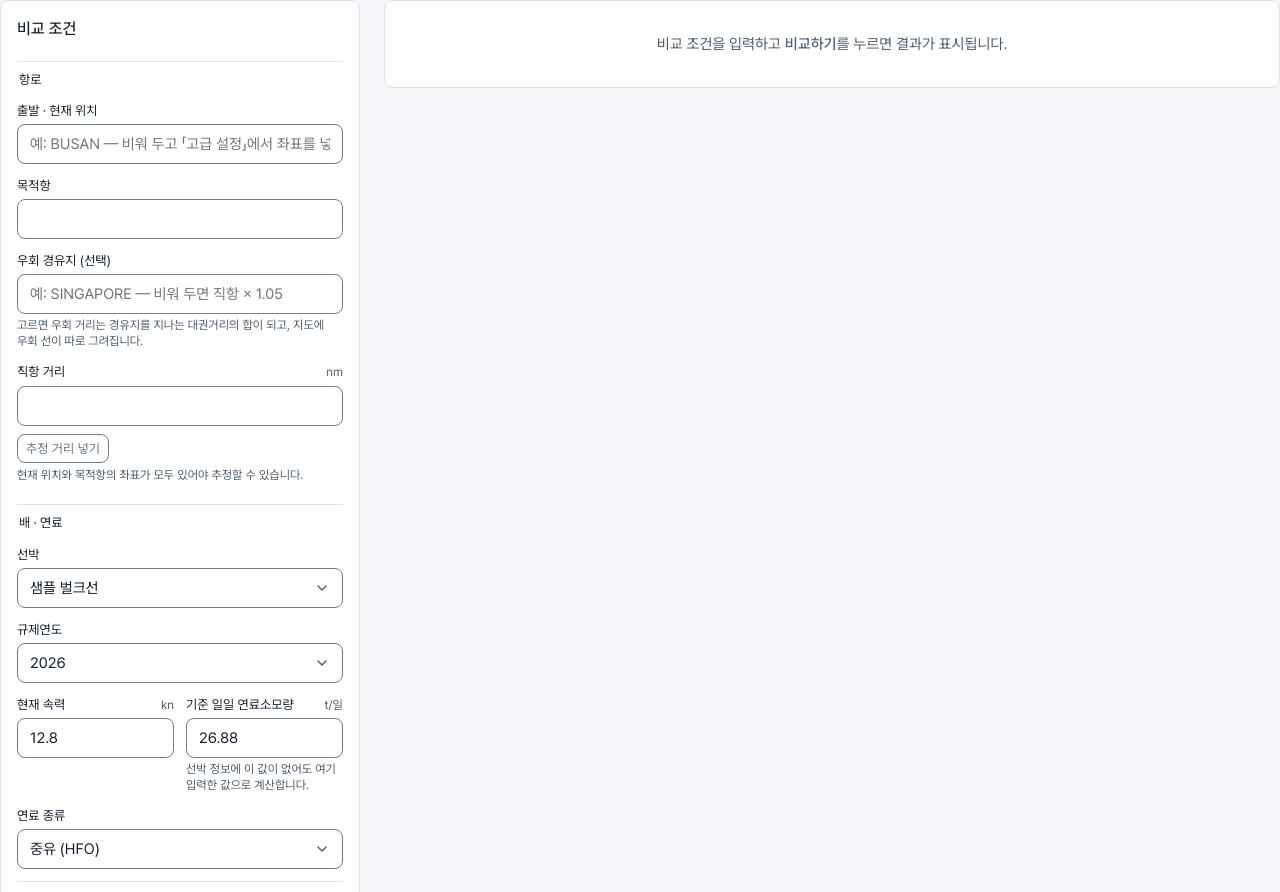
Scenario: 서버 경고가 화면에 뜬다 (#821) › 경고 코드 원문을 그대로 노출하지 않는다 — 맵을 거친다
Expected: the dropdown labelled "규제연도" is shown, [17, 643, 343, 683]
Type "1000" into the field labelled "직항 거리 nm" at (180, 406), box [17, 386, 343, 426]
(page scrolled)
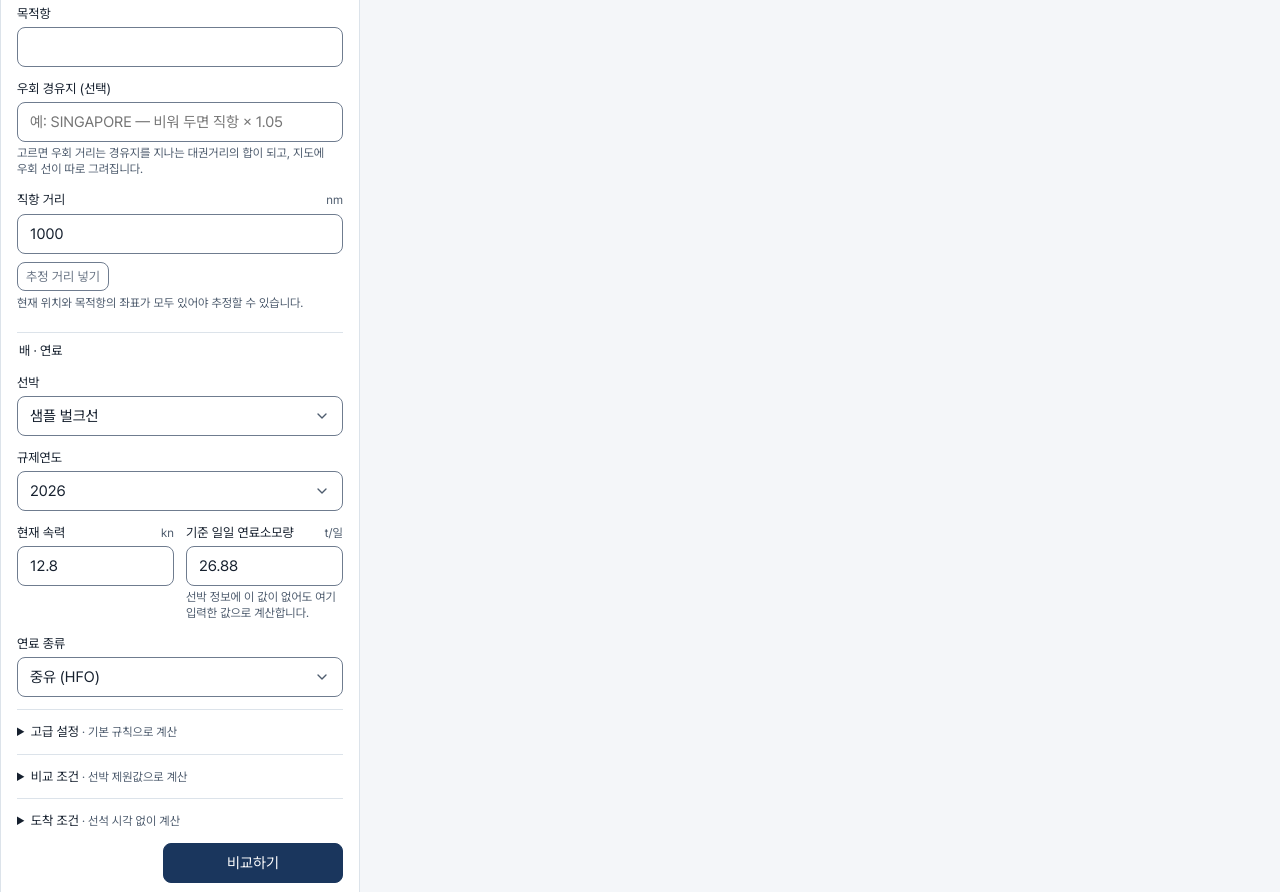
Click the button "비교하기" at (253, 863), box [163, 843, 343, 883]
(page scrolled)
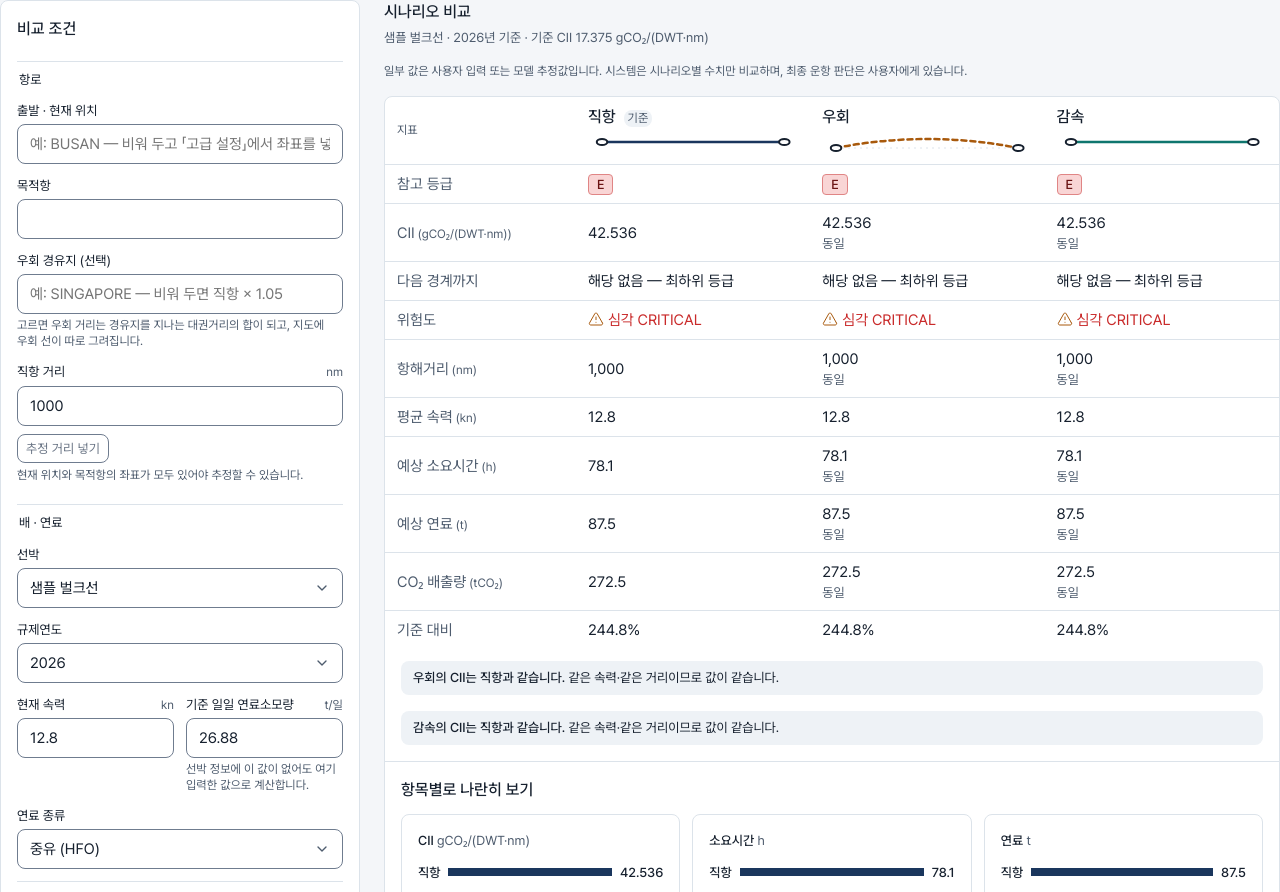
Expected: the heading "시나리오 비교" is shown, [384, 2, 471, 21]
